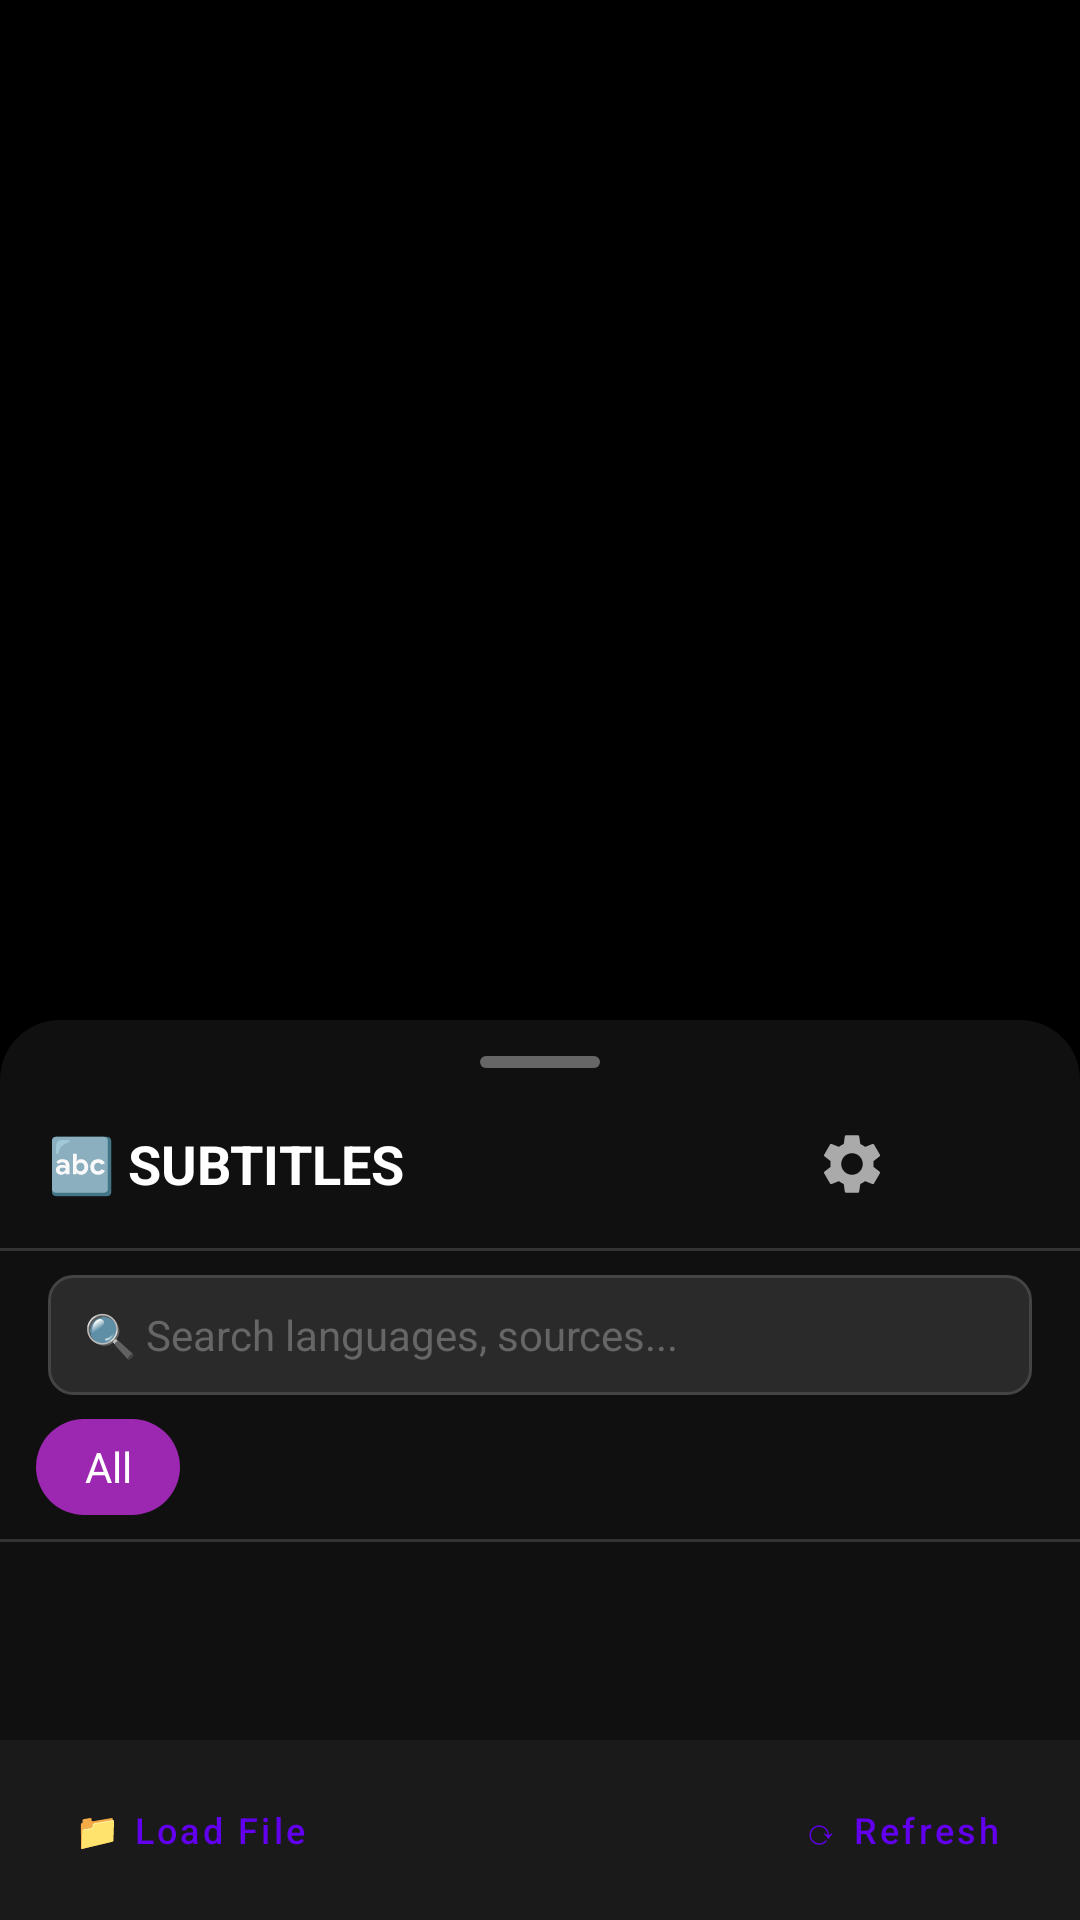

Screen size 1080px×1920px. Icon name, then its box in pixels as (left=x1, top=y1, right=x2, bottom=y2):
Settings: (left=824, top=1135, right=880, bottom=1193)
